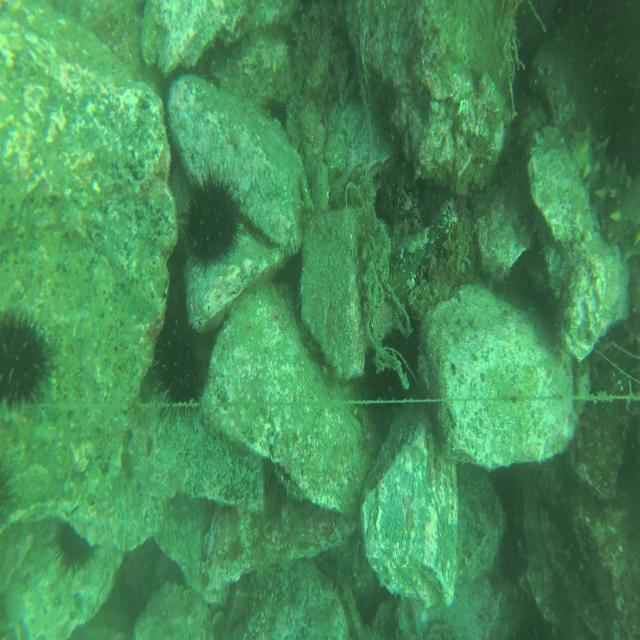echinus: (184, 169, 243, 273), (1, 310, 52, 418), (154, 316, 208, 408), (48, 520, 97, 579), (362, 369, 406, 418)
holothurian: (570, 118, 640, 268)
